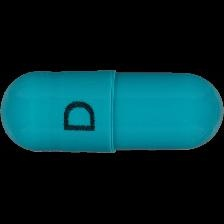53808-0265: (0, 0, 224, 224)
